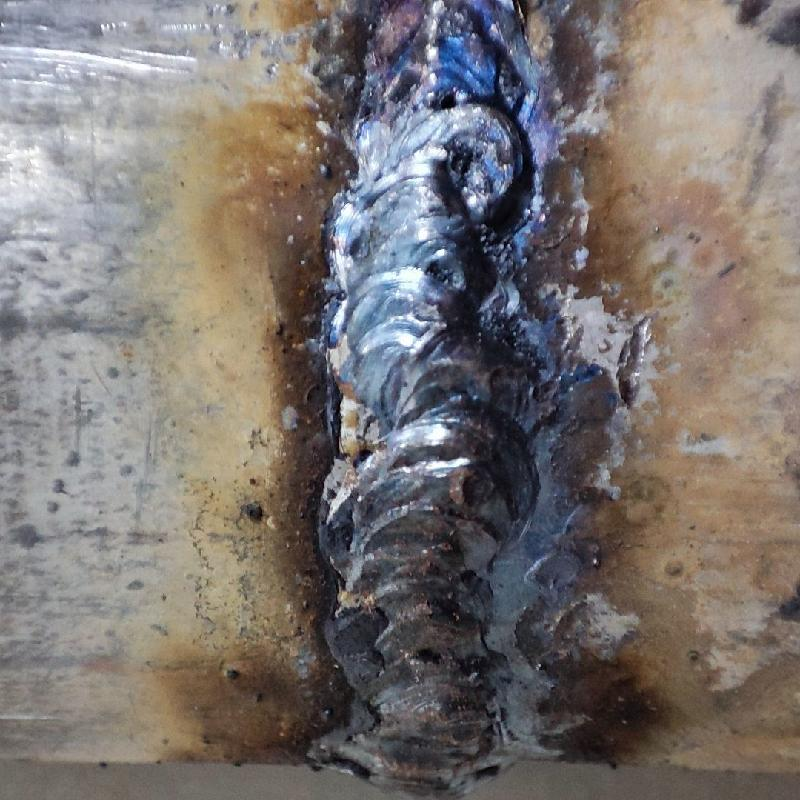Surface_pores: (431, 78, 463, 112)
